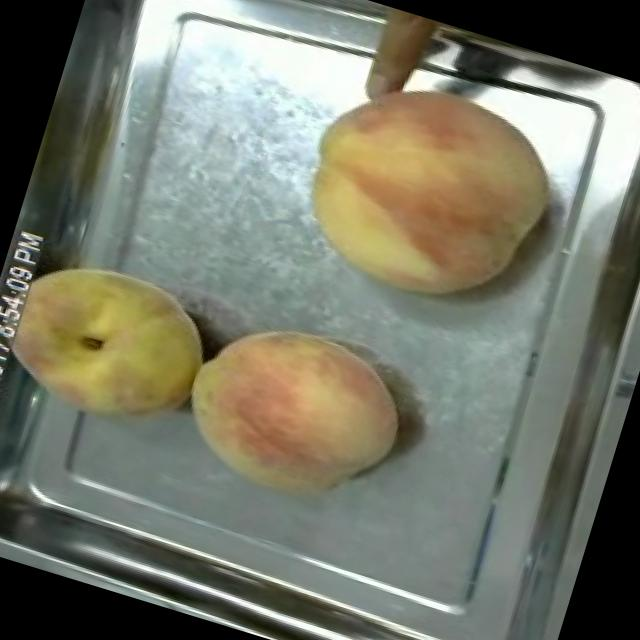Fruit: (271, 41, 580, 333), (158, 293, 425, 533), (0, 232, 227, 454)
